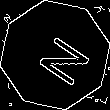N_NW: (23, 24, 87, 86)
